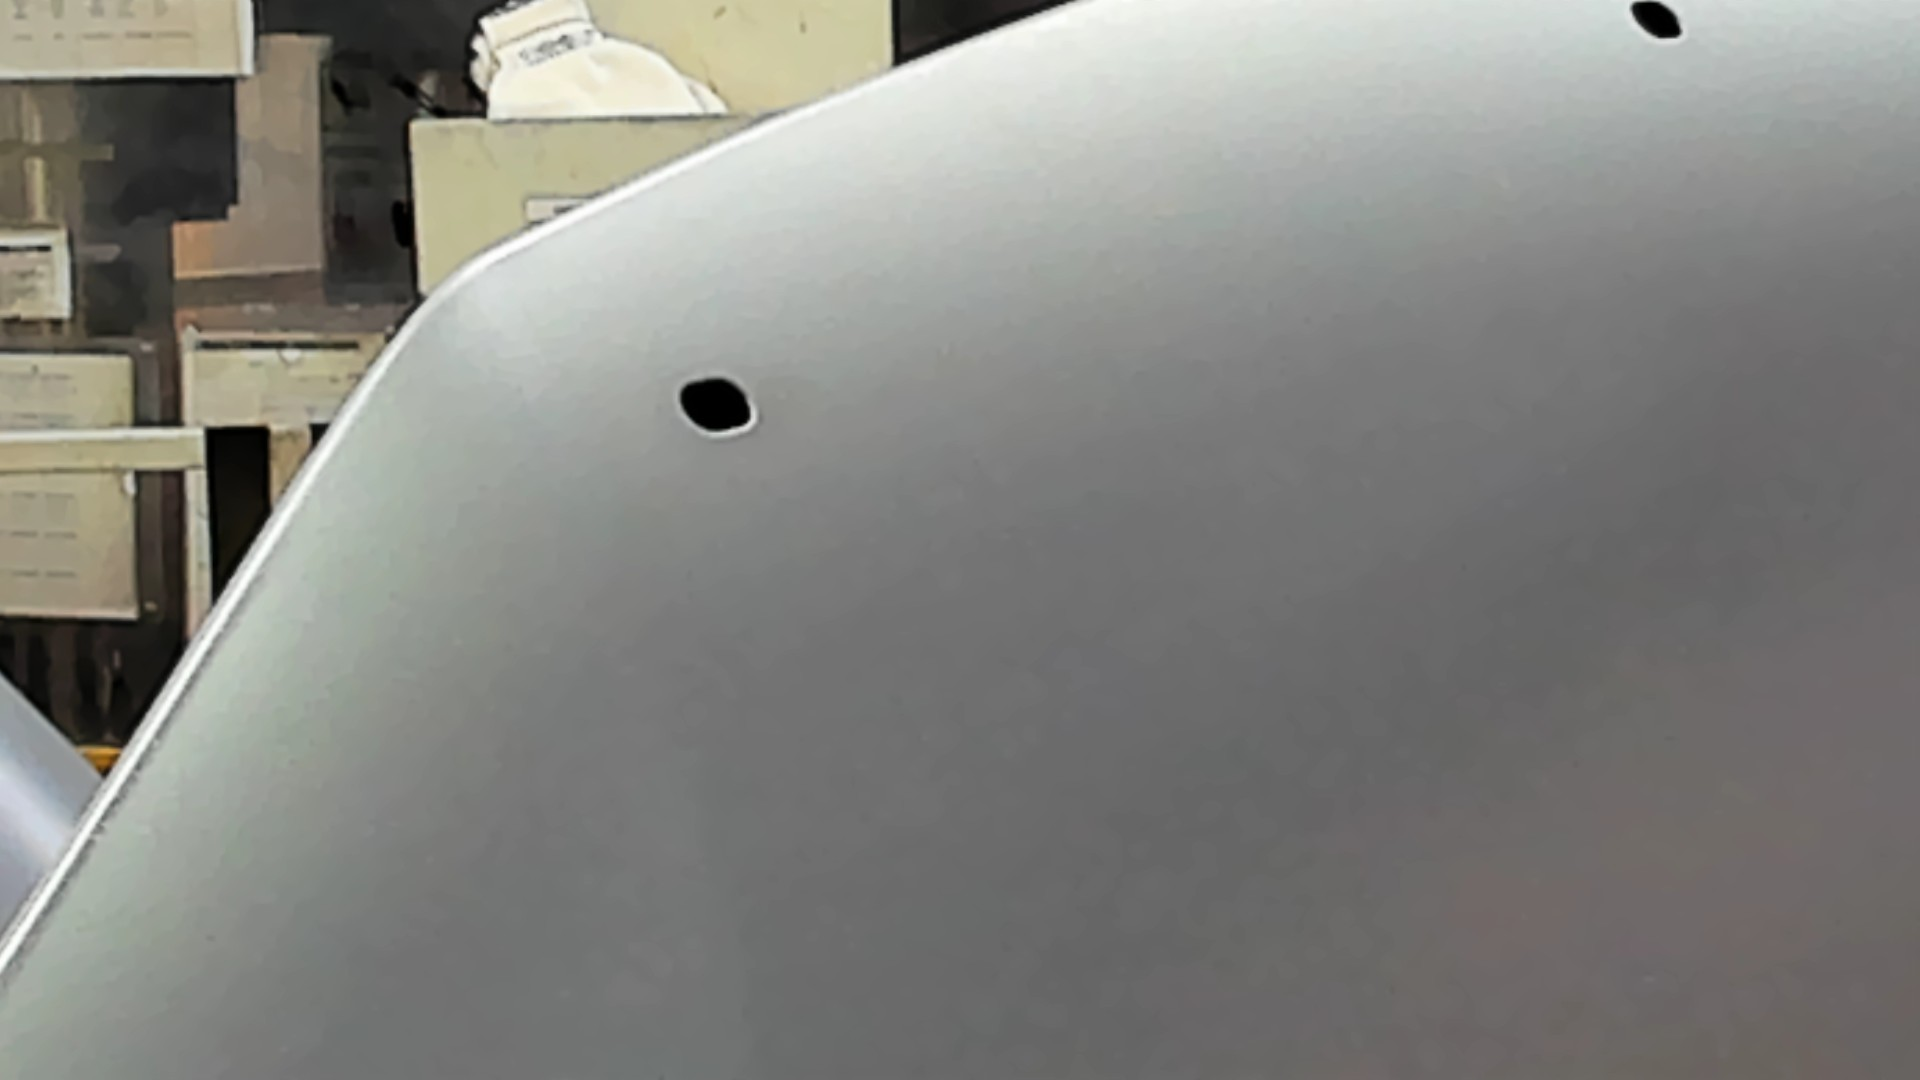amorfo: (675, 369, 760, 436), (1625, 1, 1695, 45)
